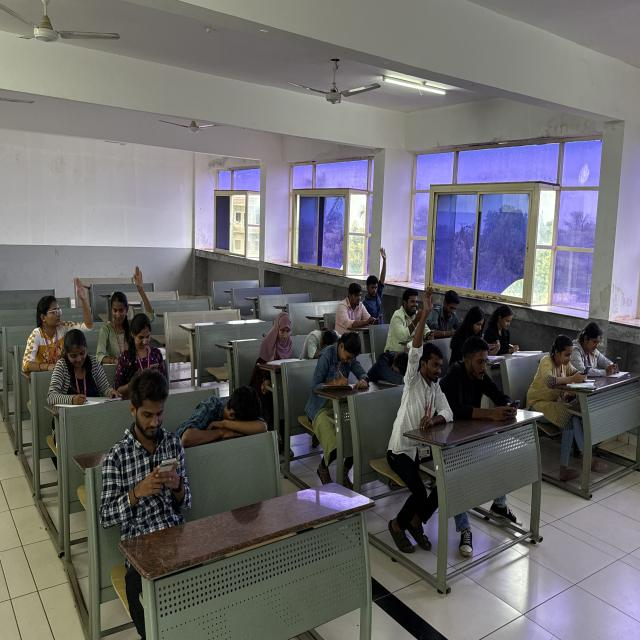Hand Rising: (402, 280, 451, 426), (101, 258, 156, 358), (35, 272, 96, 358), (364, 243, 393, 317)
Reading: (252, 308, 304, 380)
Sleeping: (165, 376, 282, 454), (363, 342, 421, 390)
Using Phone: (87, 362, 197, 541), (108, 311, 177, 390), (567, 314, 629, 386), (534, 332, 592, 406)
Writing: (39, 328, 128, 412), (308, 329, 368, 393), (488, 302, 526, 358)
